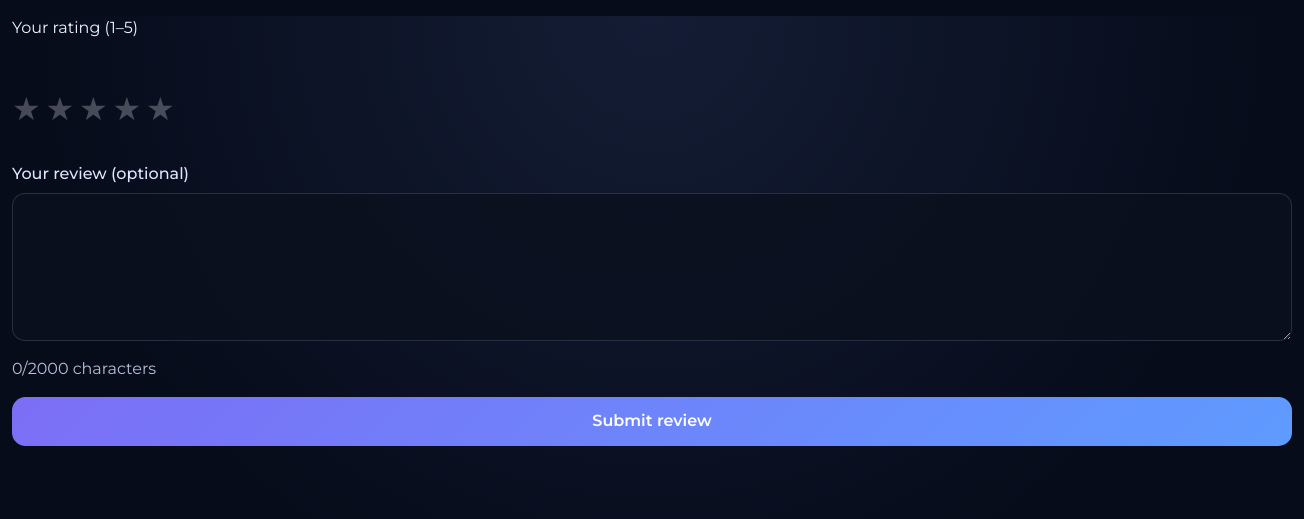
Test case: [TC-FE-RATE-06] does not discard a new draft while an earlier submission is pending
Click the button named "Rate 4 stars" at (127, 109), box left=112, top=85, right=141, bottom=133
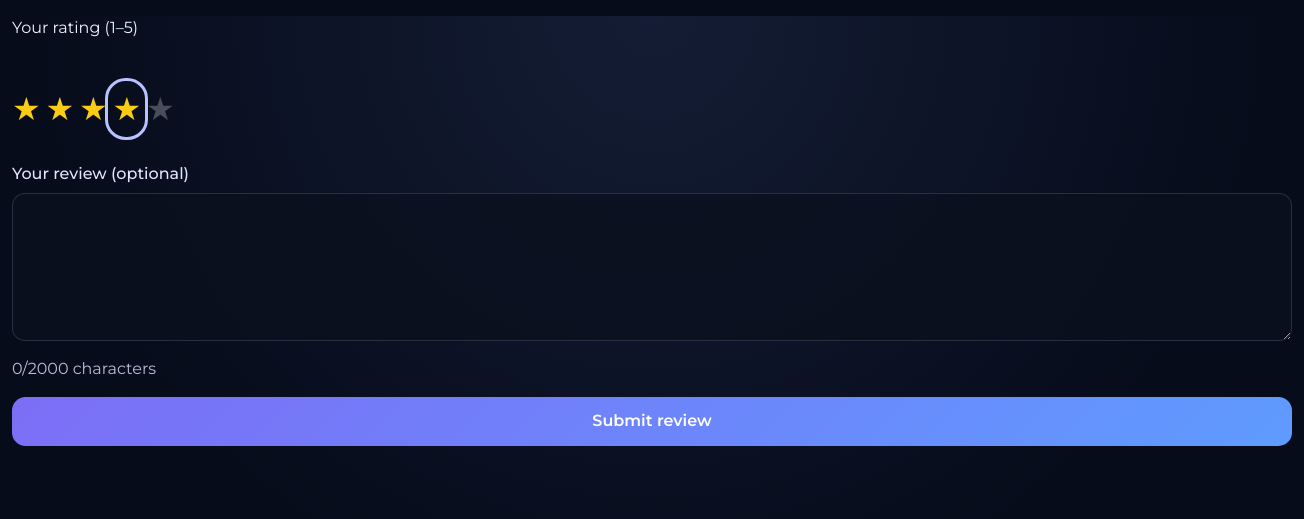
Type "Pending draft" into the text box at (652, 267), box left=12, top=193, right=1292, bottom=341
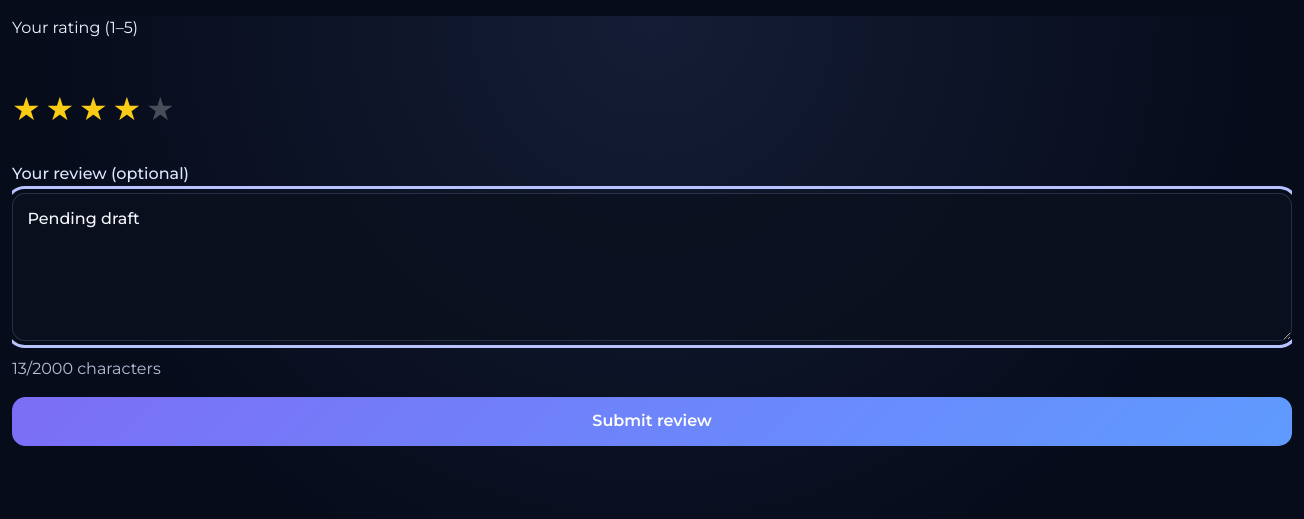
Click the button "Submit review" at (652, 421), box left=12, top=397, right=1292, bottom=446
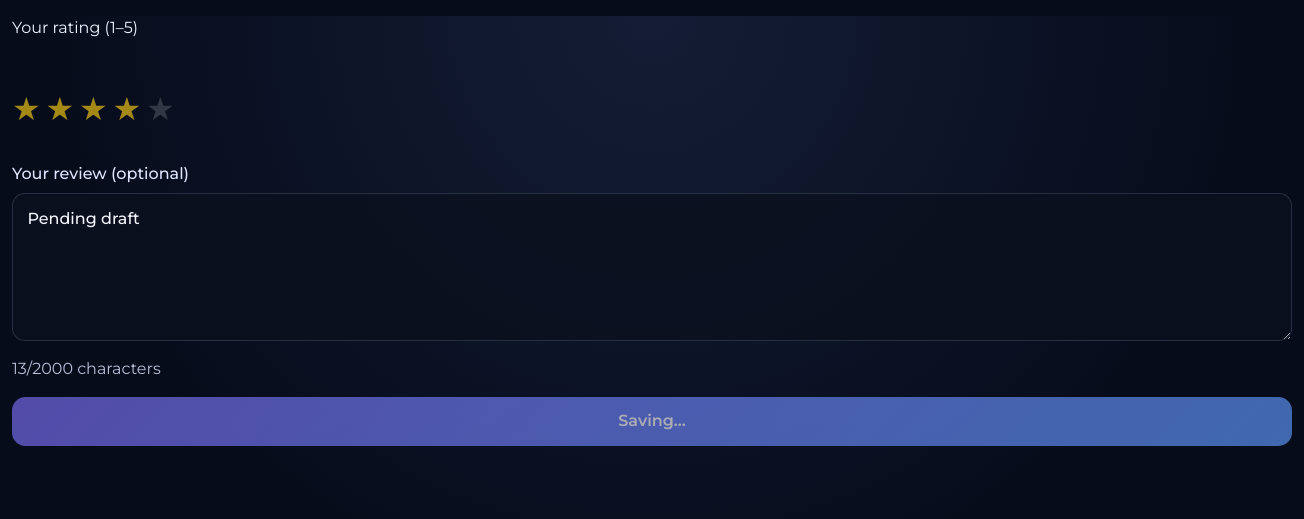
expect the text box is disabled: met, box left=12, top=193, right=1292, bottom=341
expect the button named "Rate 1 stars" is disabled: met, box left=12, top=85, right=41, bottom=133
Click the button "Saving…" at (652, 421), box left=12, top=397, right=1292, bottom=446
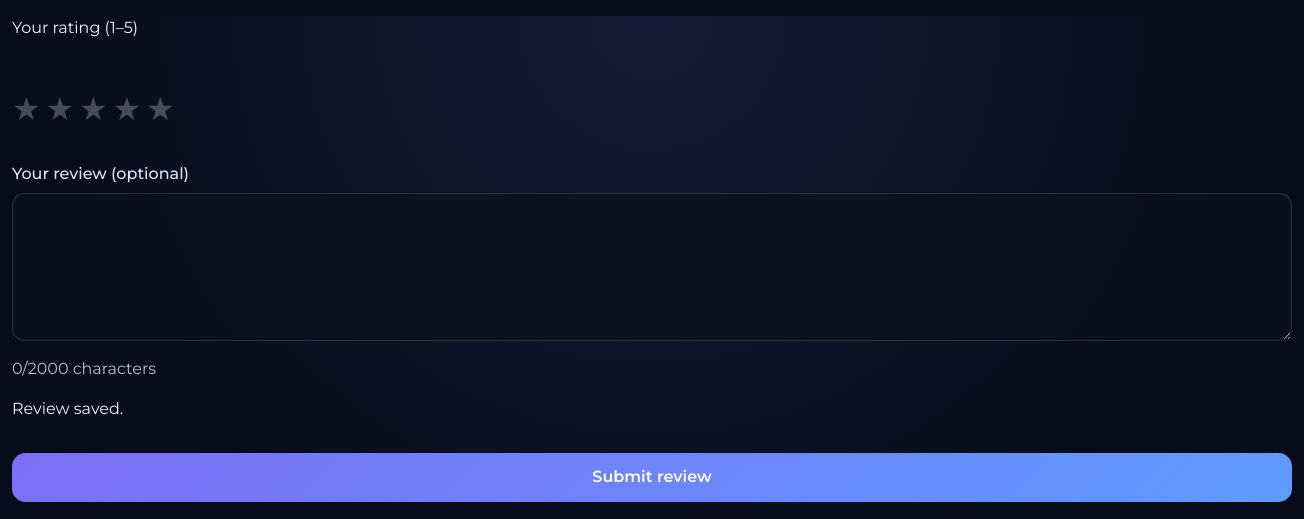
expect the text "Review saved." is shown: met, box left=12, top=399, right=123, bottom=418
expect the text box is empty: met, box left=12, top=193, right=1292, bottom=341
